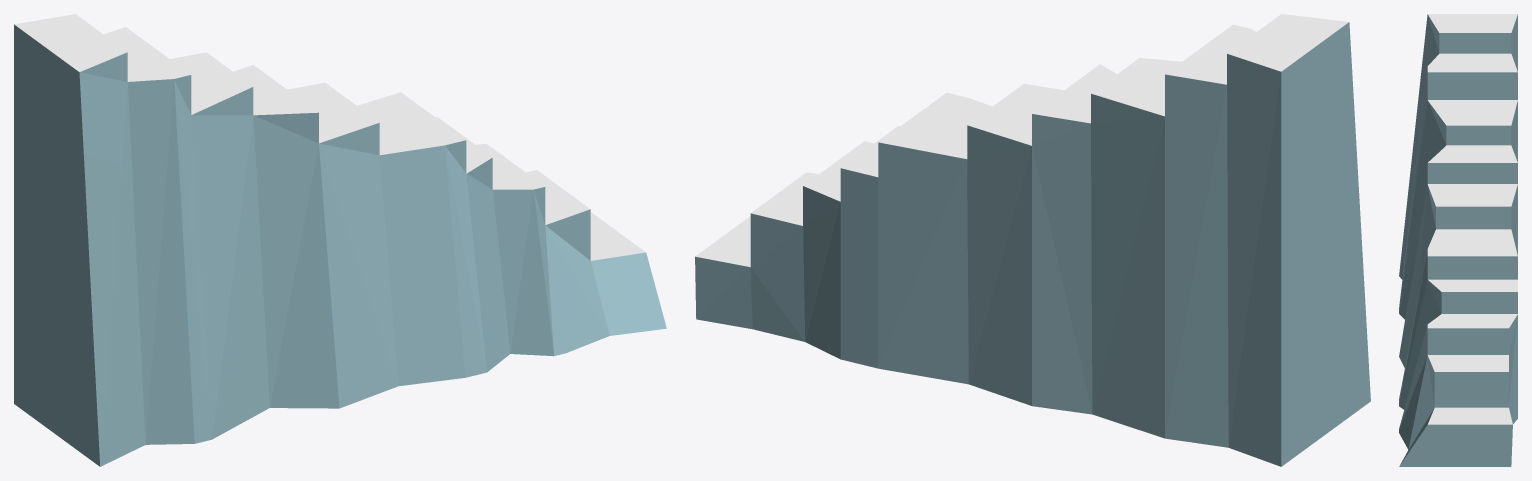
Rendered from Terrain_Modular_Tiles_Snow_Ice_Stairs_02.fbx.
3 views of the same model, side by side, from view 1: azimuth 30°, elevation 25°; view 2: azimuth 150°, elevation 25°; view 3: azimuth 270°, elevation 25° (orthographic). The views are drawn at different scales.
Visible parts, largest first — view 1: Terrain_Modular_Tiles_Snow_Ice_Stairs_02; view 2: Terrain_Modular_Tiles_Snow_Ice_Stairs_02; view 3: Terrain_Modular_Tiles_Snow_Ice_Stairs_02.
Boxes of the visible parts, left/top/right/bottom form: Terrain_Modular_Tiles_Snow_Ice_Stairs_02: left=14, top=14, right=666, bottom=466; Terrain_Modular_Tiles_Snow_Ice_Stairs_02: left=695, top=14, right=1370, bottom=466; Terrain_Modular_Tiles_Snow_Ice_Stairs_02: left=1399, top=14, right=1517, bottom=466.
Size of the model in its own units: 3750 by 2400 by 987.
